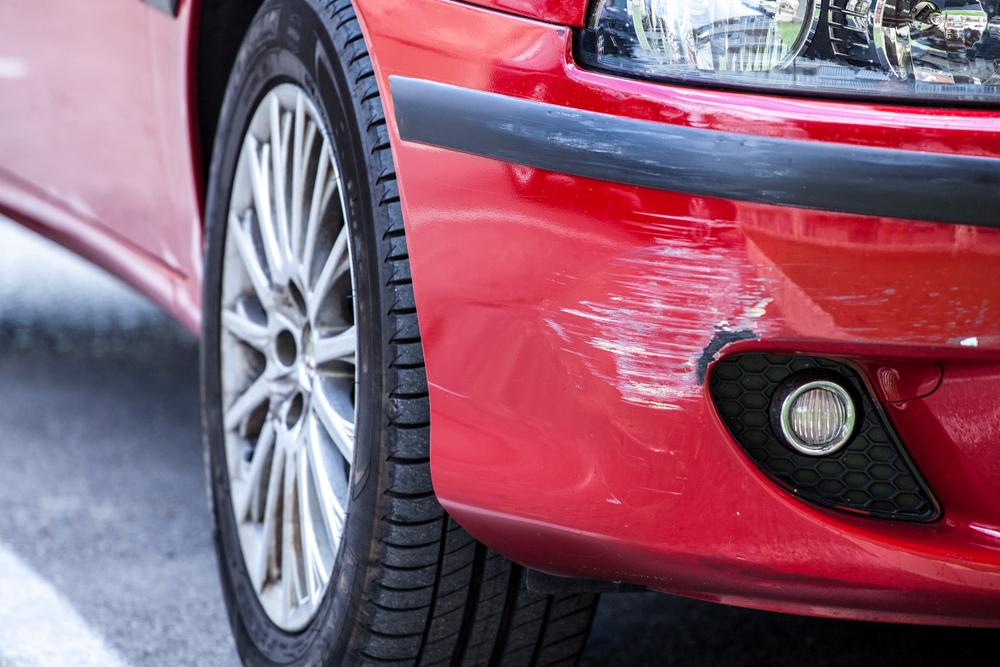scratch: (539, 202, 1000, 414), (481, 97, 806, 191)
